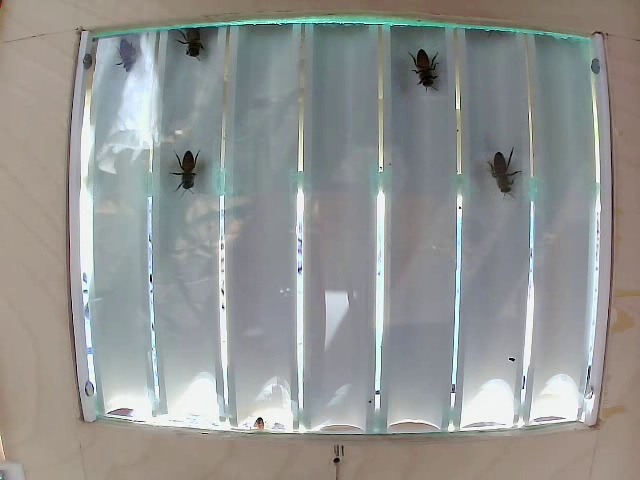bee: (95, 33, 153, 77), (488, 141, 526, 200), (173, 145, 216, 193), (410, 54, 452, 100), (175, 23, 219, 62)
